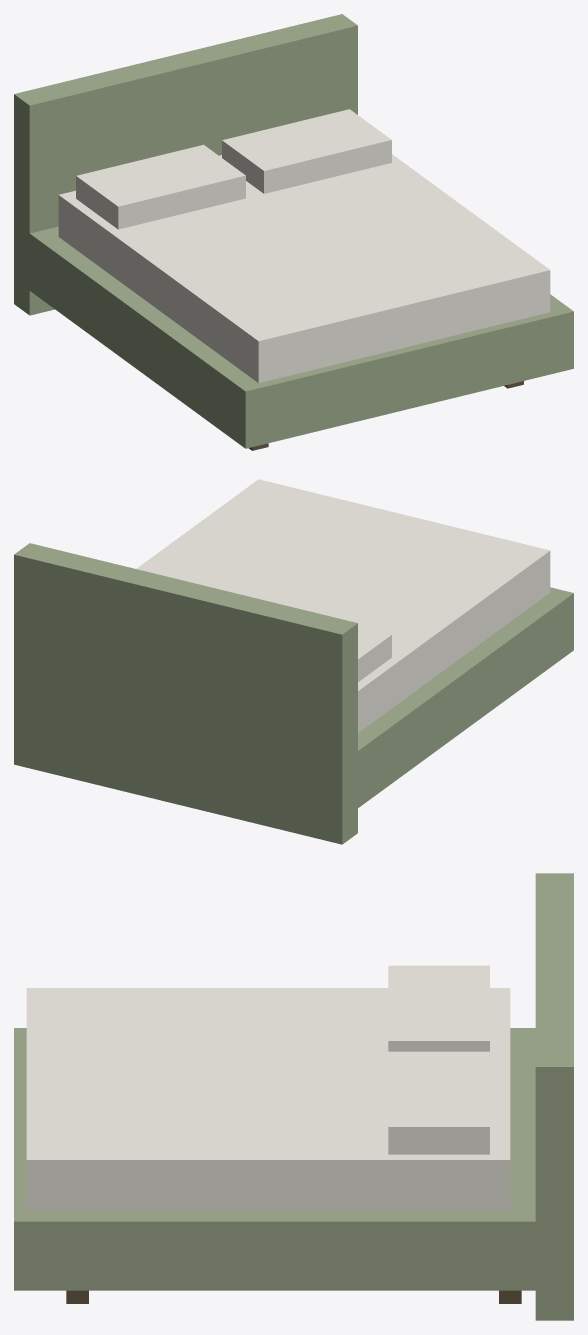
The model's file is bed-100x.glb.
3 views of the same model, one above another, from view 1: azimuth 30°, elevation 25°; view 2: azimuth 150°, elevation 25°; view 3: azimuth 270°, elevation 25° (orthographic). The views are drawn at different scales.
Parts seen in each view (by area): view 1: Матрас, Изголовье, Каркас, Подушка 1, Подушка 2; view 2: Изголовье, Матрас, Каркас, Подушка 1; view 3: Матрас, Каркас, Изголовье, Подушка 2, Подушка 1.
Part boxes in pixels (left/top/right/bottom): Матрас: left=58, top=154, right=550, bottom=383; Изголовье: left=14, top=14, right=357, bottom=315; Каркас: left=29, top=226, right=573, bottom=448; Подушка 1: left=76, top=144, right=245, bottom=229; Подушка 2: left=222, top=109, right=391, bottom=193; Изголовье: left=14, top=543, right=357, bottom=844; Матрас: left=136, top=479, right=550, bottom=732; Каркас: left=358, top=587, right=573, bottom=807; Подушка 1: left=358, top=626, right=391, bottom=681; Матрас: left=26, top=988, right=510, bottom=1210; Каркас: left=14, top=1028, right=535, bottom=1290; Изголовье: left=535, top=873, right=573, bottom=1320; Подушка 2: left=388, top=1051, right=489, bottom=1154; Подушка 1: left=388, top=965, right=489, bottom=1051.
Size of the model in its own units: 180 by 110 by 220.
